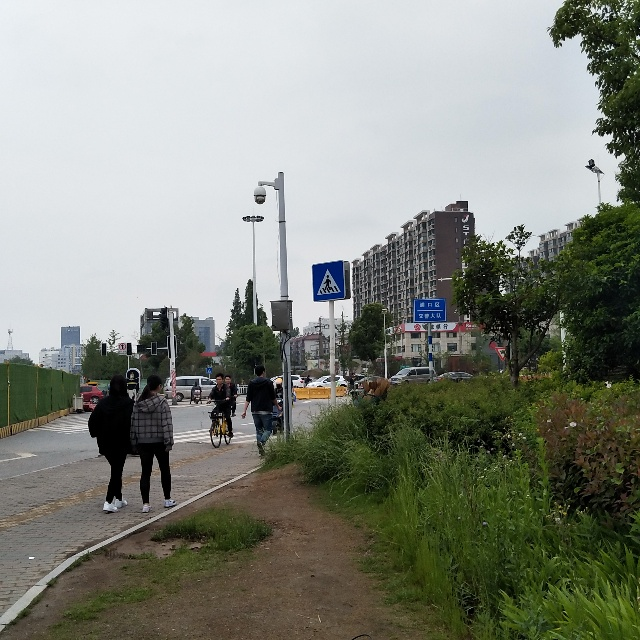crosswalk: (311, 260, 351, 302)
